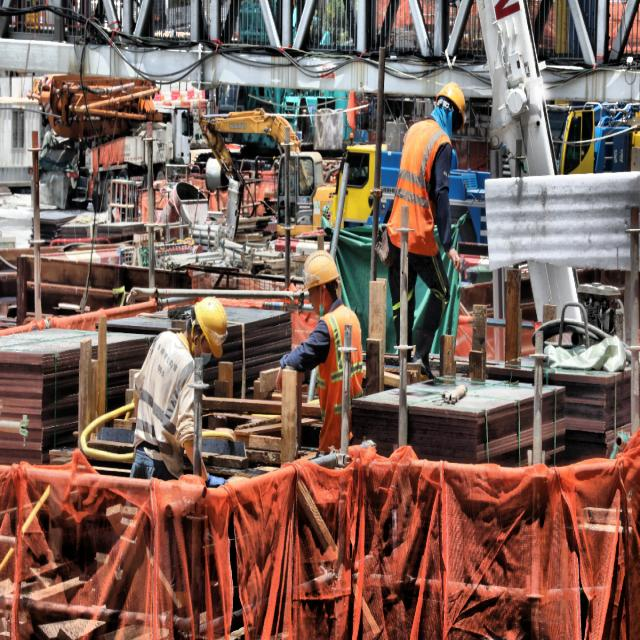safety_helmet: (191, 293, 231, 363), (301, 247, 345, 293), (437, 73, 471, 126)
safety_jacket: (310, 306, 369, 459), (395, 118, 456, 252), (135, 340, 193, 467)
